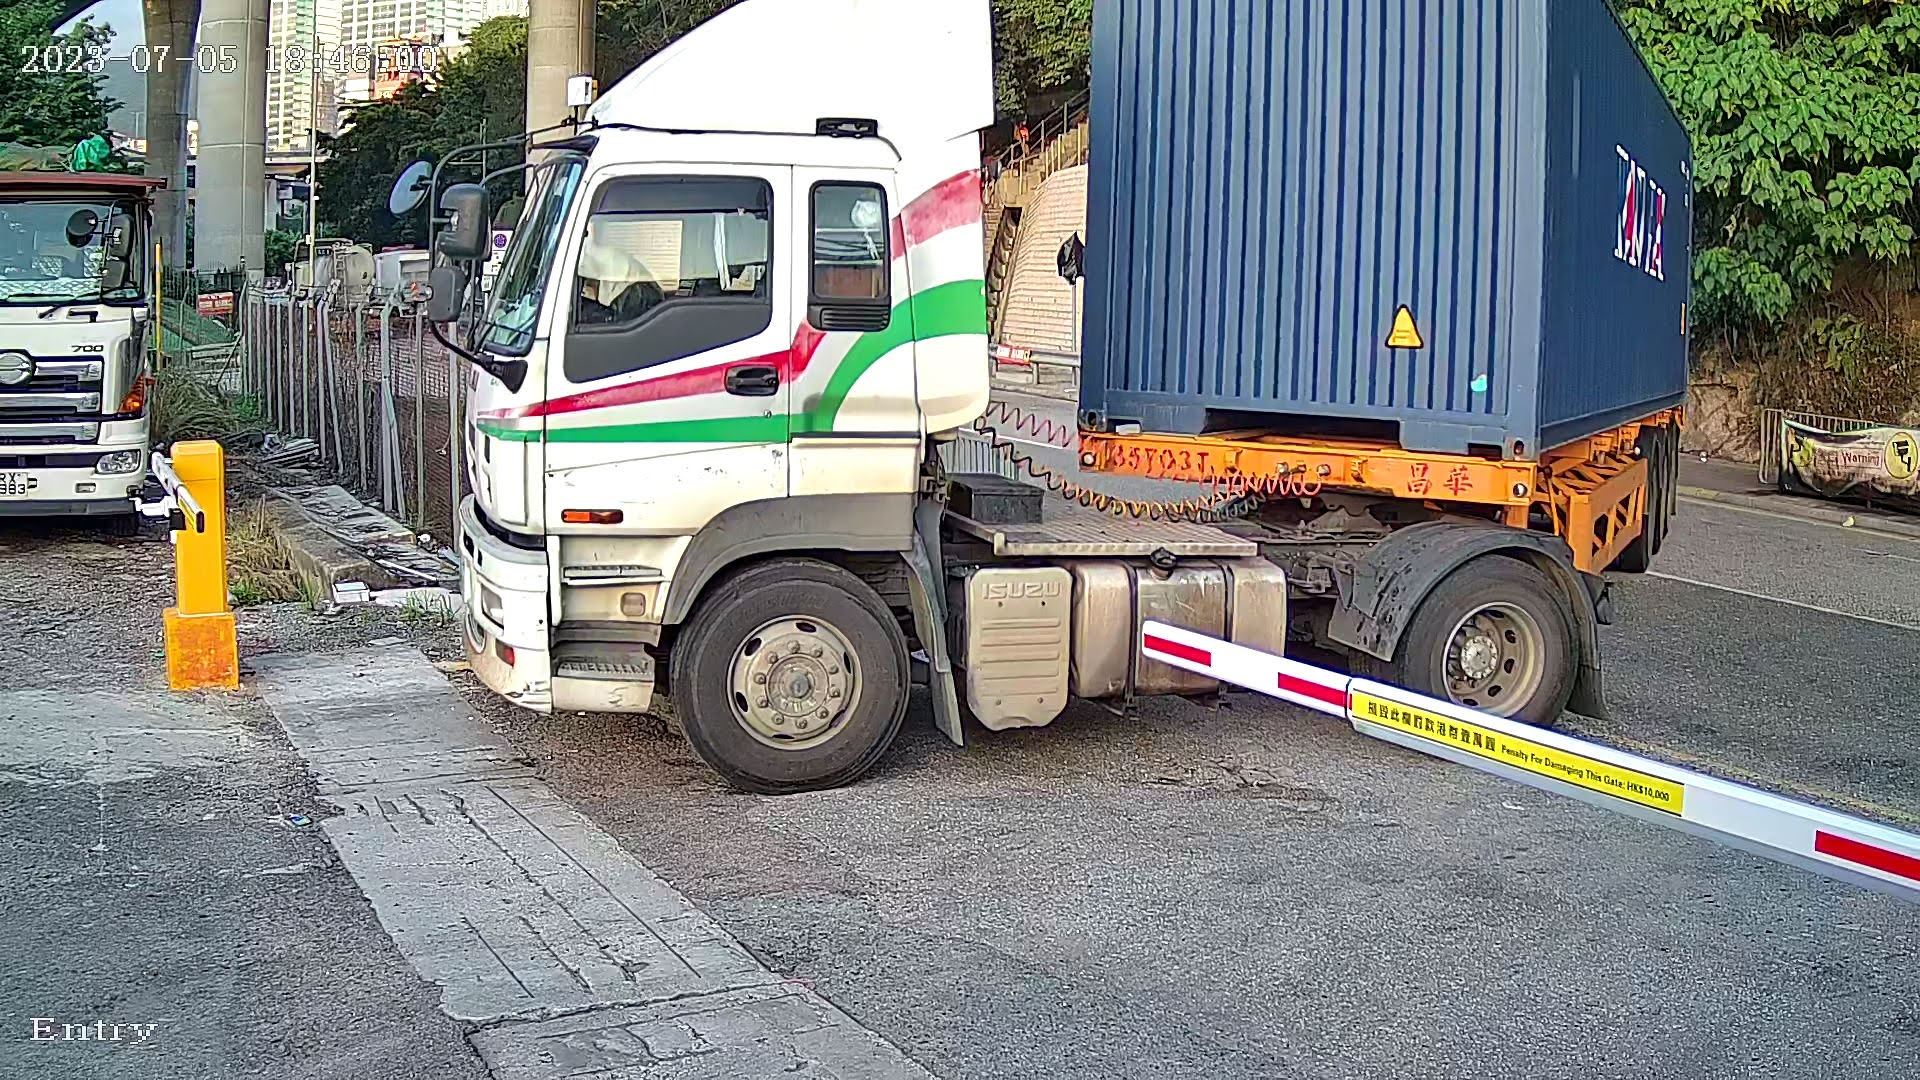truck: (431, 1, 1733, 802)
